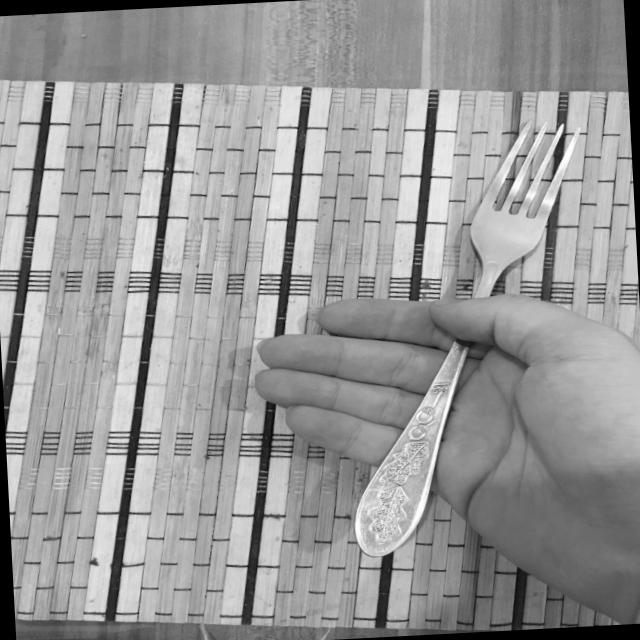fork: (336, 116, 608, 578)
